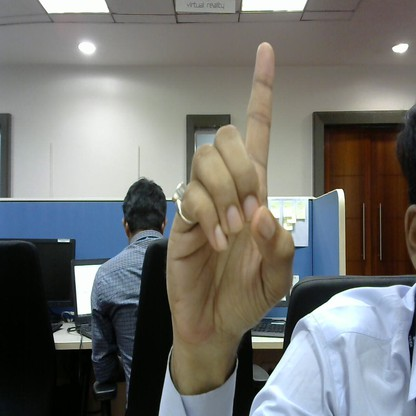d: (162, 33, 296, 347)
